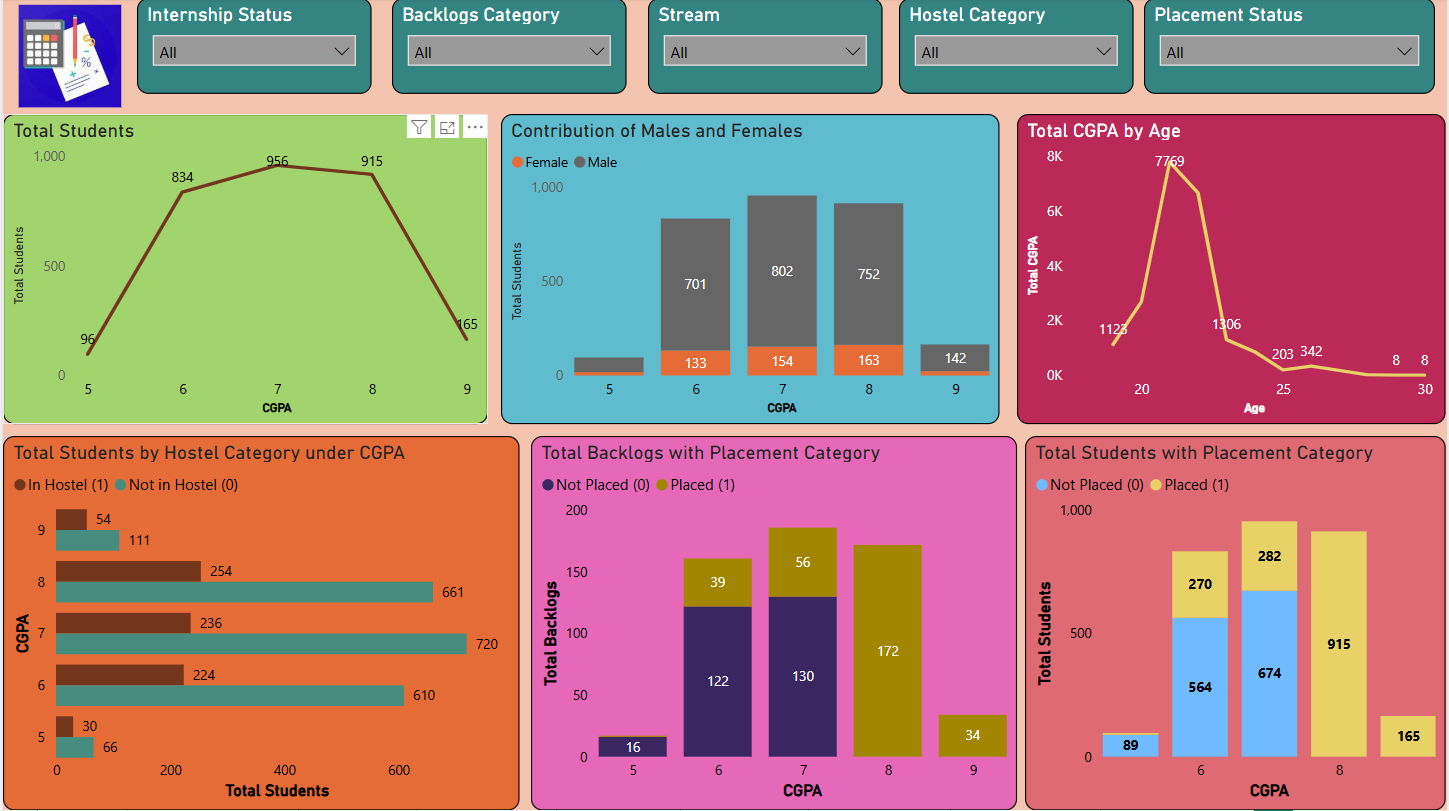

This screenshot's page, from the dashboard's own definition file:
{"tool":"powerbi","page":{"name":"CGPA Analysis","canvas":[1280,720],"ordinal":2},"visuals":[{"type":"columnChart","title":"Contribution of Males and Females","fields":{"Category":["collegePlace.CGPA"],"Y":["CountNonNull(collegePlace.Gender)"],"Series":["collegePlace.Gender"]},"box":[441.6,102.9,442.5,274.9],"z":0},{"type":"lineChart","fields":{"Category":["collegePlace.Age"],"Y":["Sum(collegePlace.CGPA)"]},"box":[899.1,102.9,380.4,274.9],"z":1000},{"type":"columnChart","title":"Total Backlogs with Placement Category","fields":{"Category":["collegePlace.CGPA"],"Y":["Sum(collegePlace.HistoryOfBacklogs)"],"Series":["collegePlace.Placement Category"]},"box":[467.8,388.1,430.9,331.7],"z":2000},{"type":"clusteredBarChart","title":"Total Students by Hostel Category under CGPA","fields":{"Category":["collegePlace.CGPA"],"Y":["CountNonNull(collegePlace.Hostel)"],"Series":["collegePlace.Hostel Category"]},"box":[0,388.4,458.4,331.6],"z":3000},{"type":"columnChart","title":"Total Students with Placement Category","fields":{"Category":["collegePlace.CGPA"],"Y":["CountNonNull(collegePlace.Stream)"],"Series":["collegePlace. placement1"]},"box":[906.5,388.1,373.5,331.7],"z":4000},{"type":"slicer","title":"Backlogs Category","fields":{"Values":["collegePlace.Backlogs Category"]},"box":[345.3,0,208.1,84.6],"z":5000},{"type":"slicer","title":"Stream","fields":{"Values":["collegePlace.Stream"]},"box":[571.9,0,208.1,84.6],"z":6000},{"type":"slicer","title":"Hostel Category","fields":{"Values":["collegePlace.Hostel Category"]},"box":[794.7,0,208.1,84.6],"z":7000},{"type":"slicer","title":"Placement Status","fields":{"Values":["collegePlace.placement status"]},"box":[1011.6,0,257.8,84.6],"z":8000},{"type":"slicer","title":"Internship Status","fields":{"Values":["collegePlace.Internship Status"]},"box":[118.7,0,208.1,84.6],"z":9000},{"type":"lineChart","title":"Total Students ","fields":{"Category":["collegePlace.CGPA"],"Y":["CountNonNull(collegePlace.CGPA)"]},"box":[0,102.9,430,274.9],"z":10000},{"type":"image","box":[8.8,0,101.2,103.1],"z":11000}]}

Visuals, with their boxes in screenshot pixels (x1, y1, x2, y2), scaled from the page's 1280x720 canvas onto the 1449x811 screenshot:
"Contribution of Males and Females" columnChart: [left=500, top=116, right=1001, bottom=426]
lineChart - collegePlace.Age x Sum(collegePlace.CGPA): [left=1018, top=116, right=1448, bottom=426]
"Total Backlogs with Placement Category" columnChart: [left=530, top=437, right=1017, bottom=810]
"Total Students by Hostel Category under CGPA" clusteredBarChart: [left=0, top=437, right=519, bottom=810]
"Total Students with Placement Category" columnChart: [left=1026, top=437, right=1448, bottom=810]
"Backlogs Category" slicer: [left=391, top=0, right=626, bottom=95]
"Stream" slicer: [left=647, top=0, right=883, bottom=95]
"Hostel Category" slicer: [left=900, top=0, right=1135, bottom=95]
"Placement Status" slicer: [left=1145, top=0, right=1437, bottom=95]
"Internship Status" slicer: [left=134, top=0, right=370, bottom=95]
"Total Students " lineChart: [left=0, top=116, right=487, bottom=426]
image: [left=10, top=0, right=125, bottom=116]
